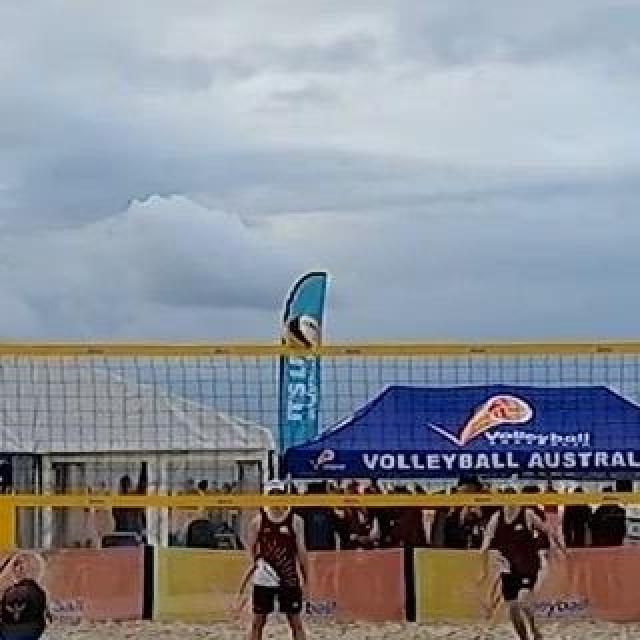volleyball: (283, 314, 321, 354)
